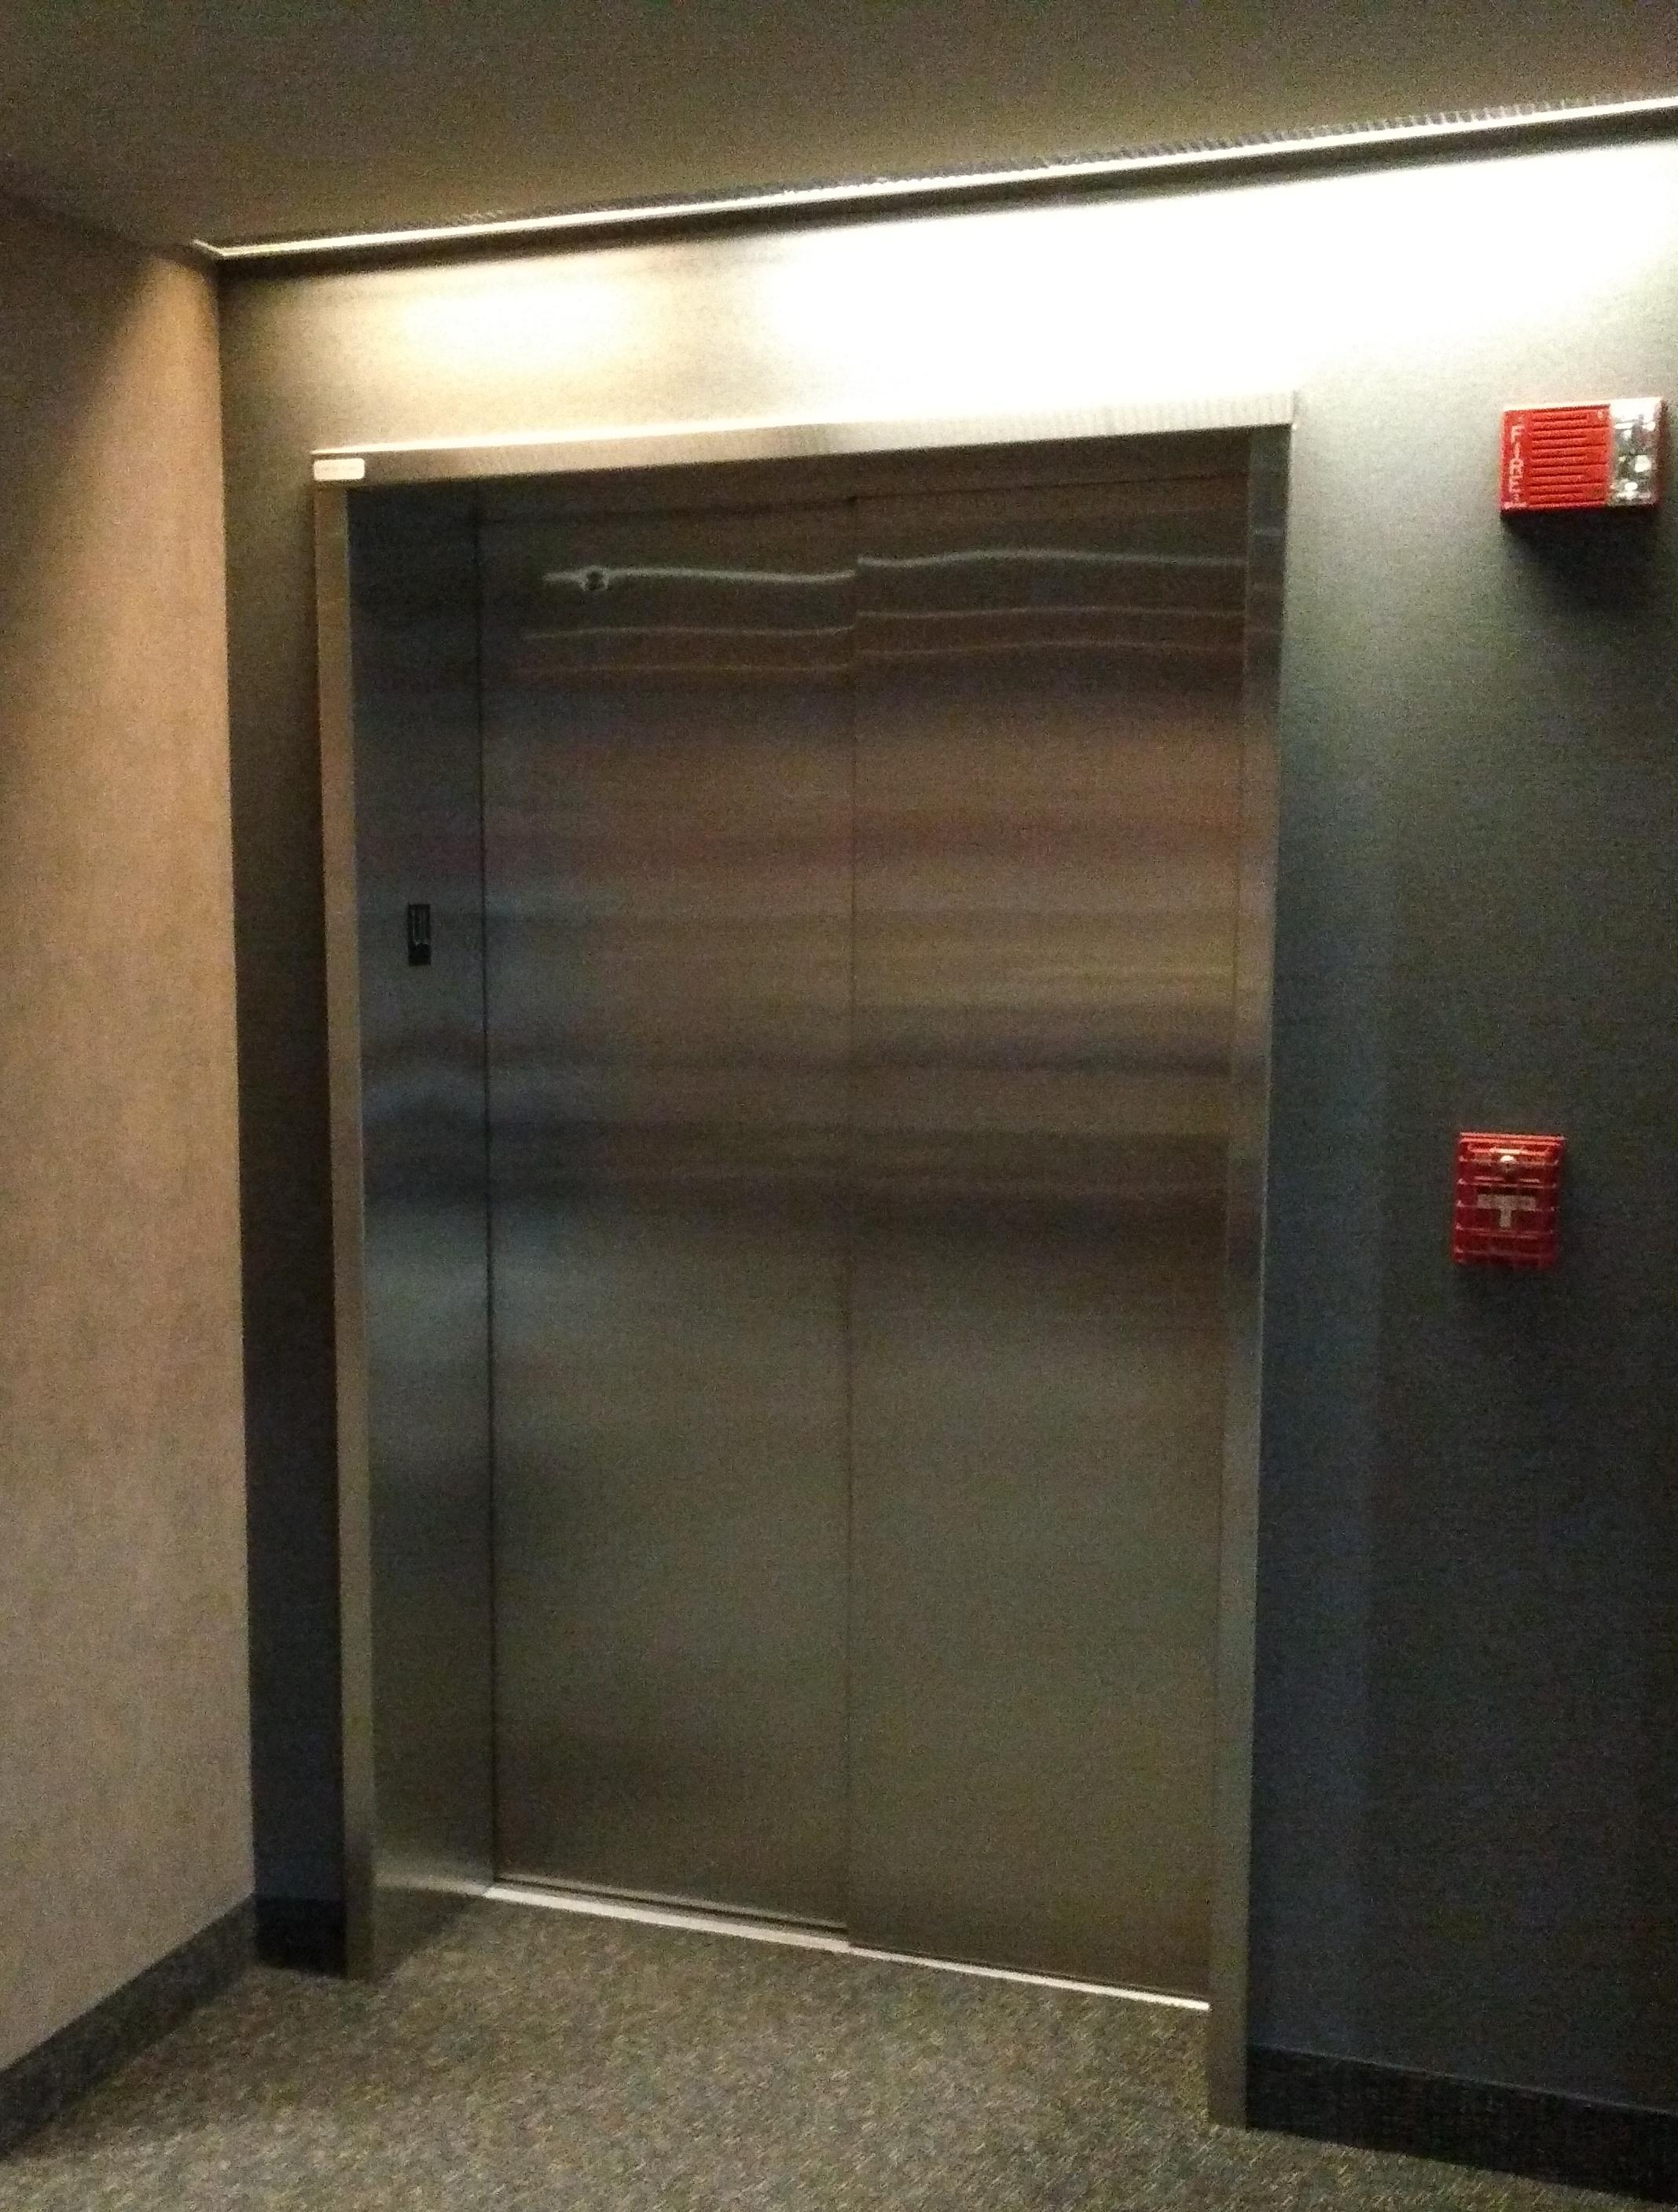door: (307, 390, 1296, 2136)
